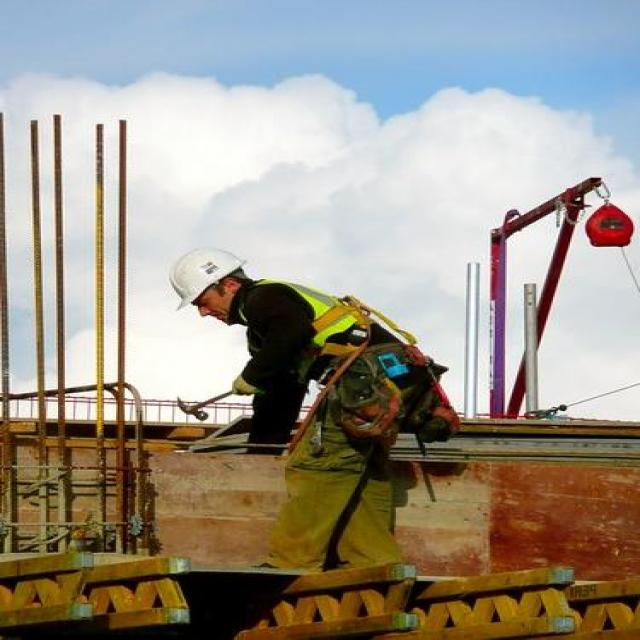Reflective-Jacket: (227, 270, 442, 402)
Safety-Helmet: (154, 240, 256, 316)
